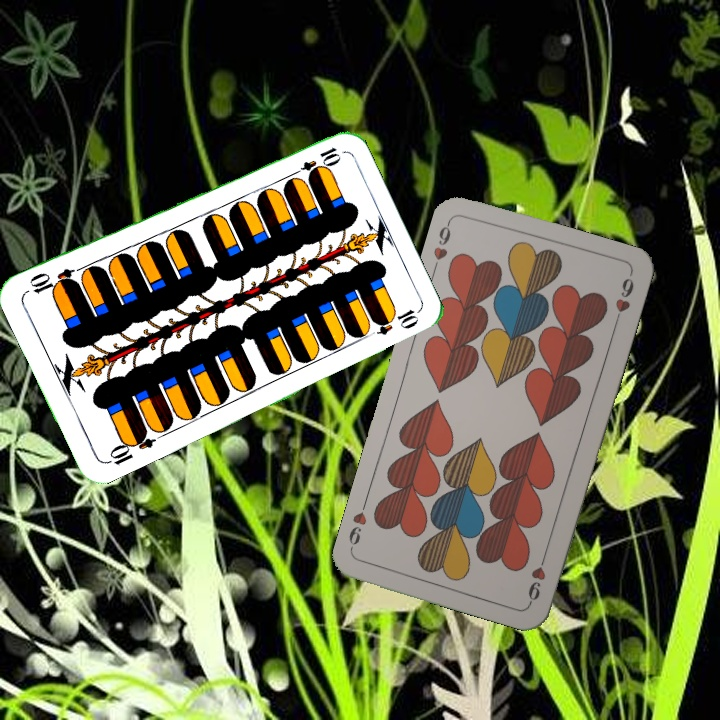E10: (101, 426, 157, 468), (286, 142, 343, 181)
H9: (524, 548, 550, 606), (429, 216, 454, 274)
